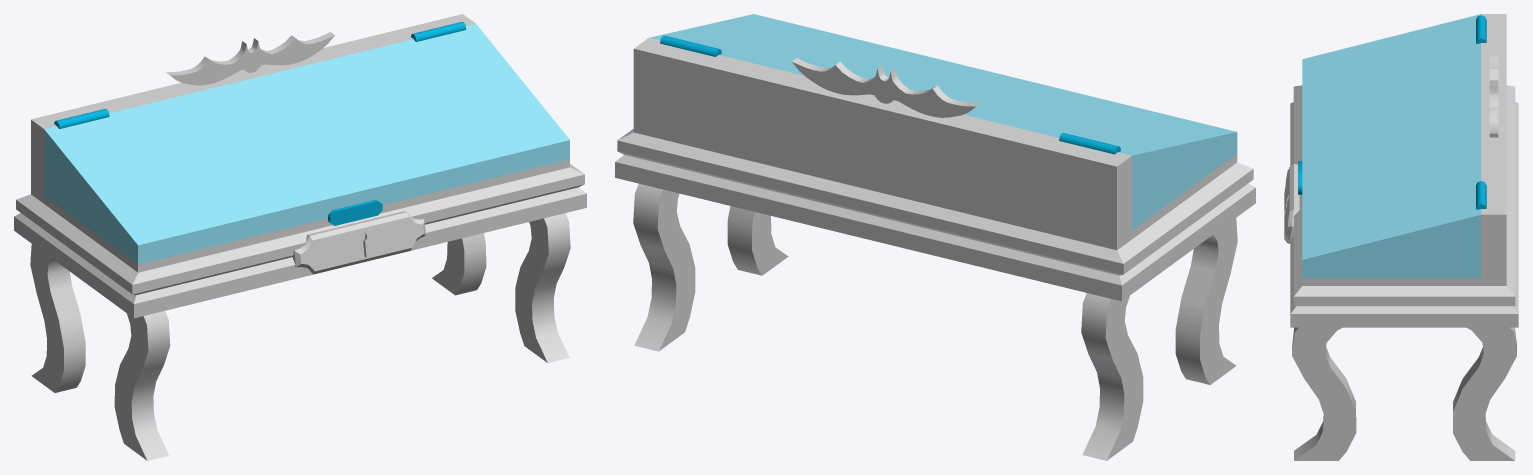
Rendered from Artifact_Table_FINAL.fbx.
3 renders of one model, left to right at view 1: azimuth 30°, elevation 25°; view 2: azimuth 150°, elevation 25°; view 3: azimuth 270°, elevation 25°, orthographic. The views are drawn at different scales.
Parts seen in each view (by area): view 1: Artifact_Lid, Artifact_Table; view 2: Artifact_Table, Artifact_Lid; view 3: Artifact_Lid, Artifact_Table.
Part boxes in pixels (left/top/right/bottom): Artifact_Lid: left=44, top=22, right=569, bottom=264; Artifact_Table: left=14, top=14, right=586, bottom=460; Artifact_Table: left=615, top=38, right=1255, bottom=460; Artifact_Lid: left=649, top=14, right=1237, bottom=230; Artifact_Lid: left=1298, top=14, right=1486, bottom=278; Artifact_Table: left=1284, top=14, right=1518, bottom=460.
Size of the model in its own units: 163 by 100 by 76.49.
